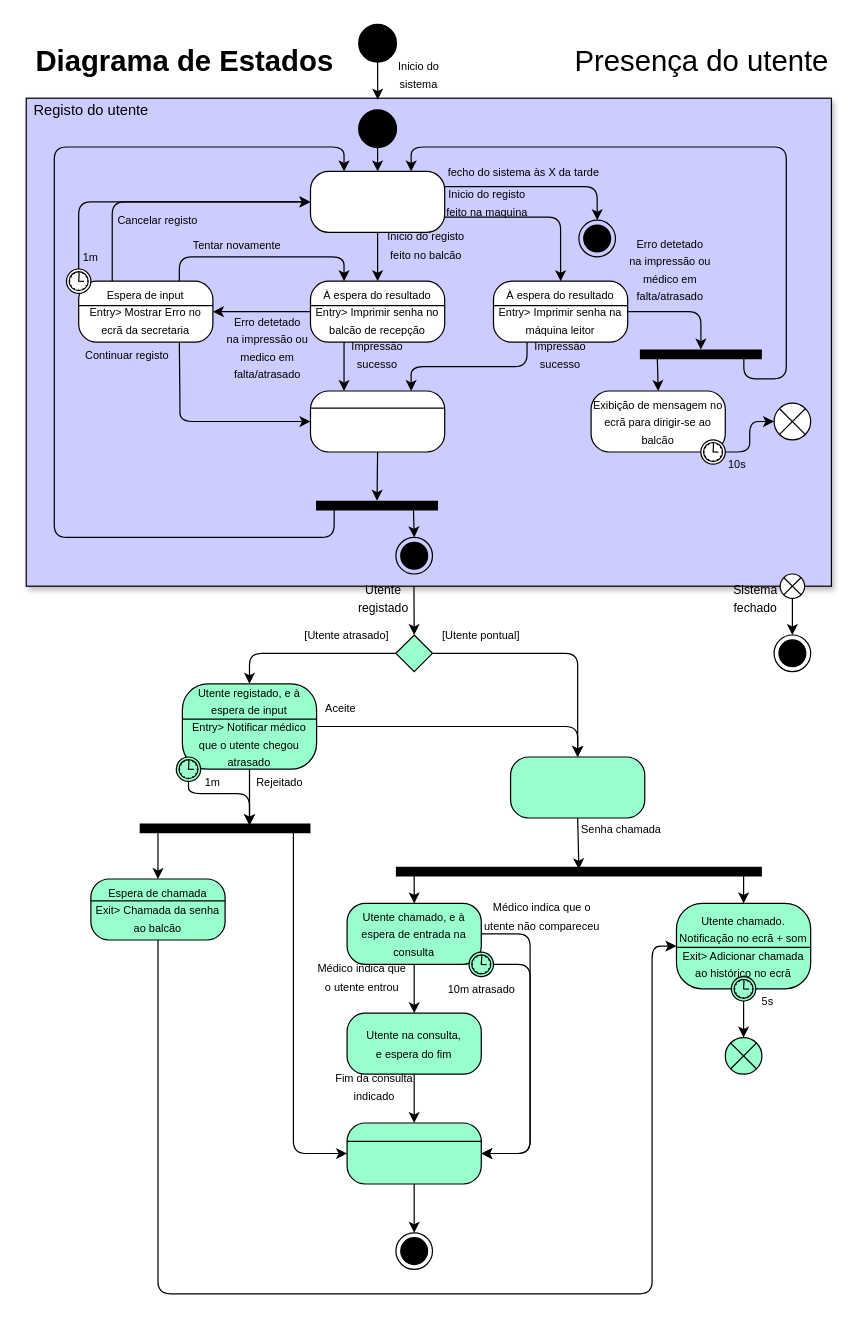
Some shapes in this 860 by 1325 pixel diagram are drawn without their labels. Here are the shapes that lost their labels. From the top down, the centre of each, then its label:
At [377,201]: "Á espera de registo de um Utente".
At [377,421]: "Exit> Finalizar registo no sistema".
At [577,787]: "Espera de chamada".
At [413,1153]: "Exit> Registar consulta na base de dados".
